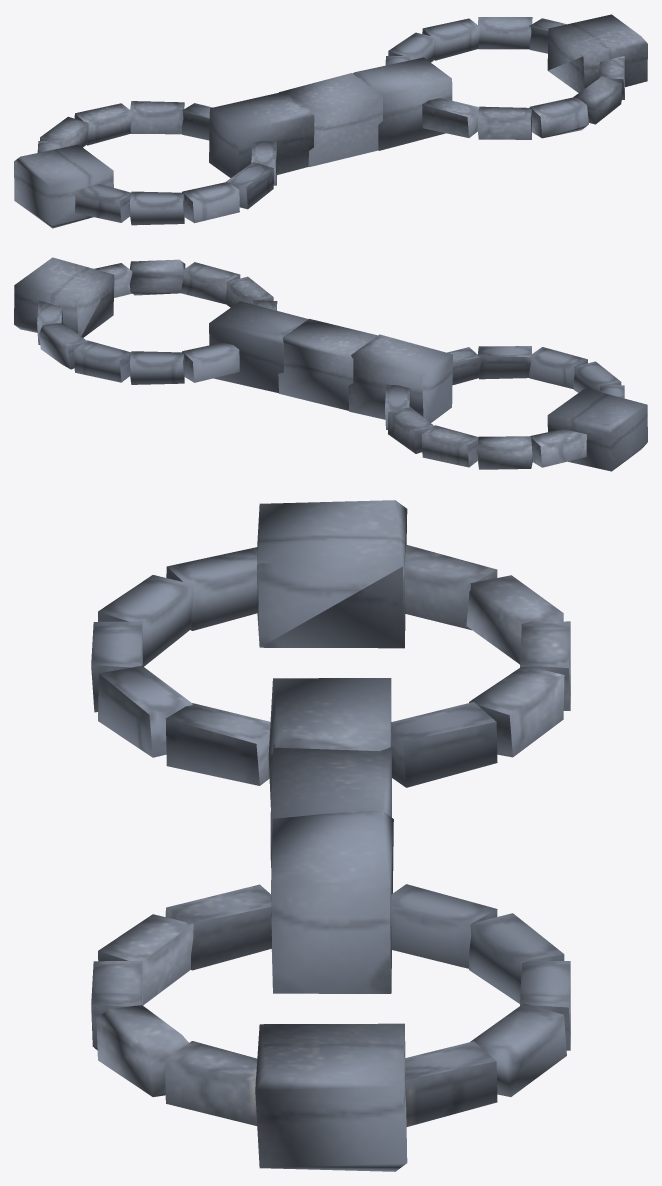
The model's file is Esposas.fbx.
3 views of the same model, one above another, from view 1: azimuth 30°, elevation 25°; view 2: azimuth 150°, elevation 25°; view 3: azimuth 270°, elevation 25° (orthographic). The views are drawn at different scales.
Parts seen in each view (by area): view 1: Esposas; view 2: Esposas; view 3: Esposas.
Part boxes in pixels (x1,y1,x2,y2): Esposas: [14, 14, 647, 228]; Esposas: [14, 257, 647, 471]; Esposas: [91, 500, 570, 1171].
Bounding box in the file's own units: 2.58 × 0.2375 × 0.896.
